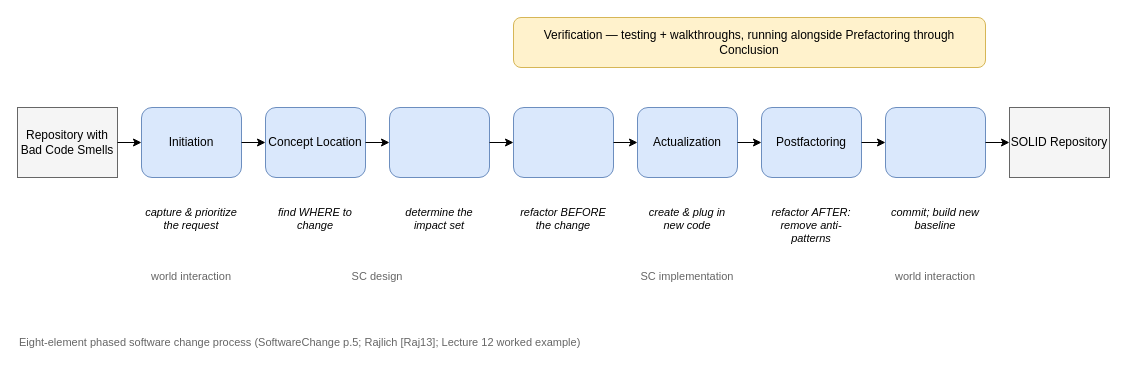
The diagram is 1127 pixels wide and 375 high, and some of its shapes have lost their labels. Here are the shapes that lost their labels. From the top down, the centre of each, then its label:
At [439,142]: "Impact Analysis".
At [563,142]: "Prefactoring".
At [935,142]: "Conclusion".
